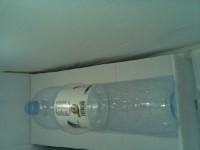BIODEGRADABLE: (13, 11, 109, 141)
